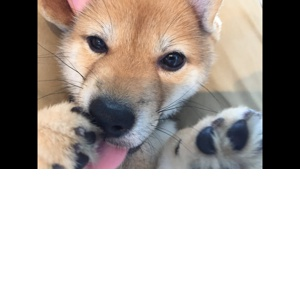dog: (38, 0, 262, 166)
